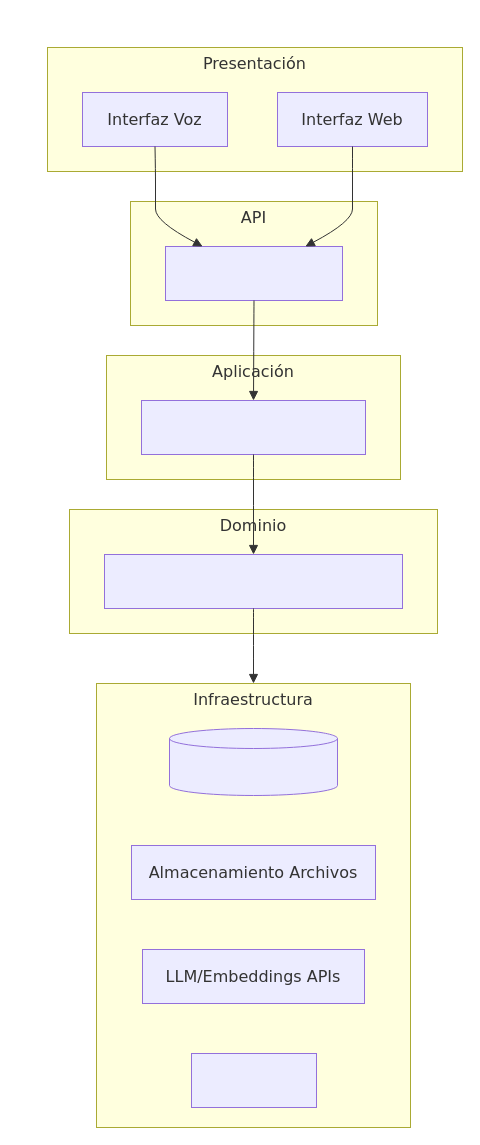
This 480x1145 diagram has some shape labels left out. The shapes that lost their labels are listed below. From the top down, each one's centre as x and y in pixels, then its label:
At point 253,273: "FastAPI Routers".
At point 253,427: "Servicios de Aplicación".
At point 253,581: "Entidades y Servicios de Dominio".
At point 253,762: "PostgreSQL/pgvector".
At point 253,1080: "STT/TTS".
